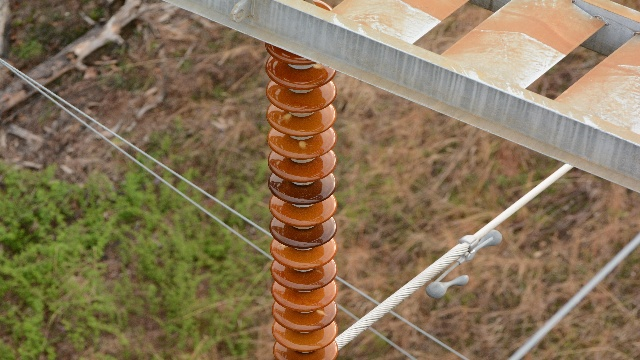insulator_unspecified: (264, 20, 343, 359)
pollution_flashover_local: (310, 60, 325, 70), (297, 140, 310, 151), (315, 309, 328, 317), (282, 112, 292, 122)
